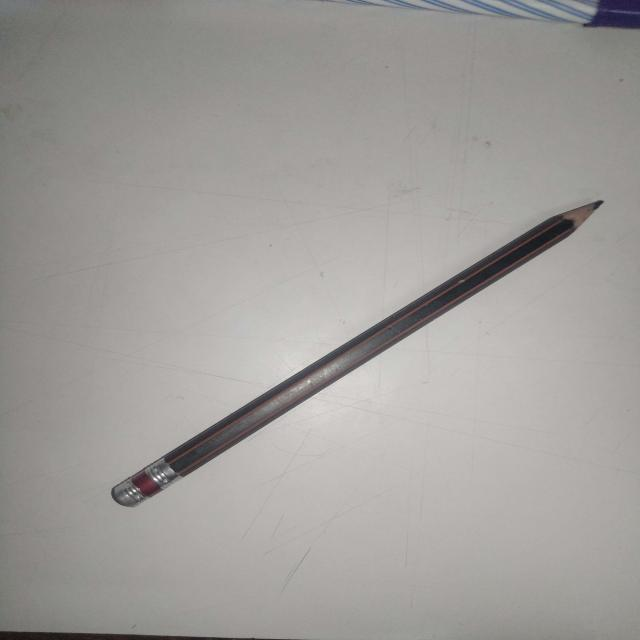pen_pencil: (97, 162, 607, 573)
